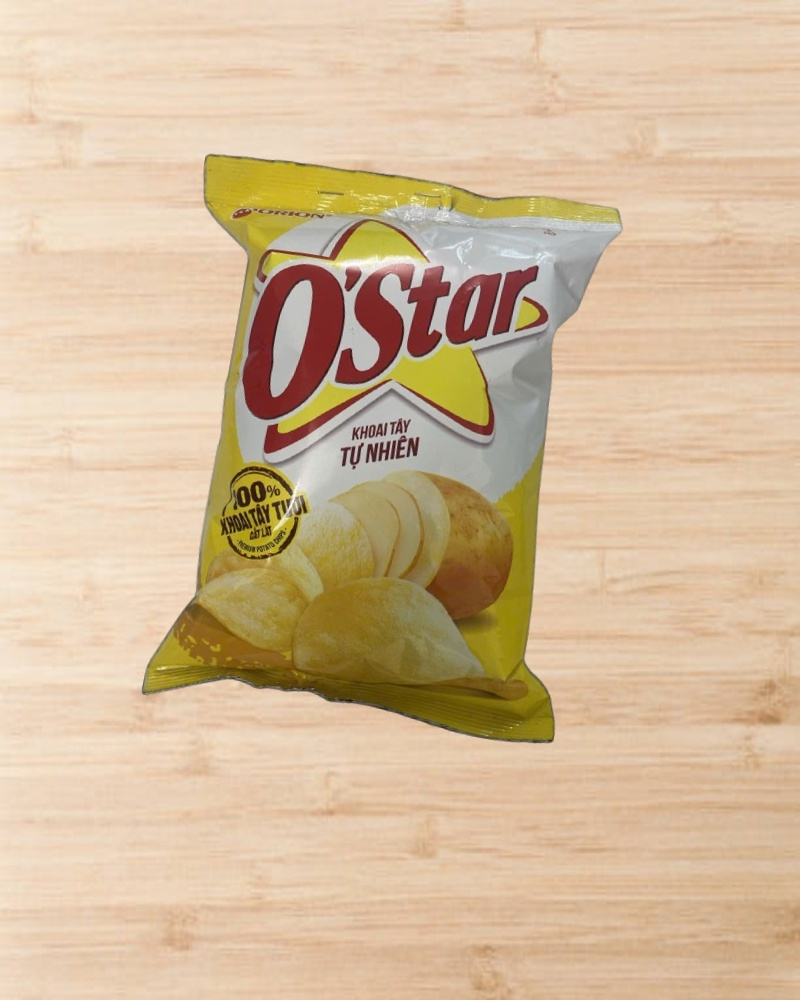O'star: (114, 137, 646, 766)
